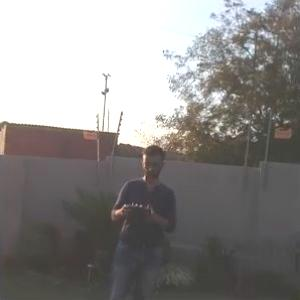follow: (98, 135, 186, 299)
